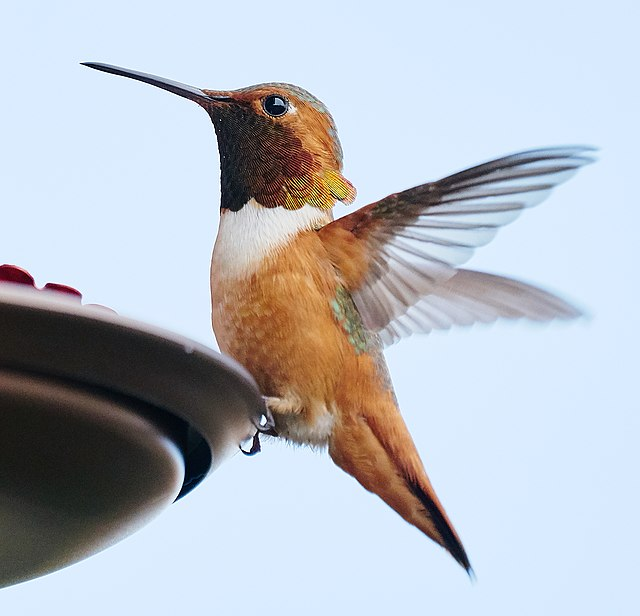selasphorus sasin: (81, 59, 594, 573)
